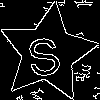S: (22, 27, 64, 78)
